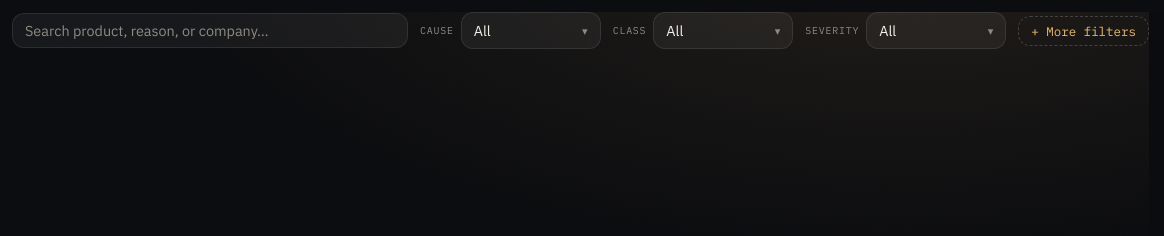
Test: RecallFilters › shows UK classifications and hides the source filter for the UK
Click the dropdown named "Class" at (723, 30), box [653,12,793,49]
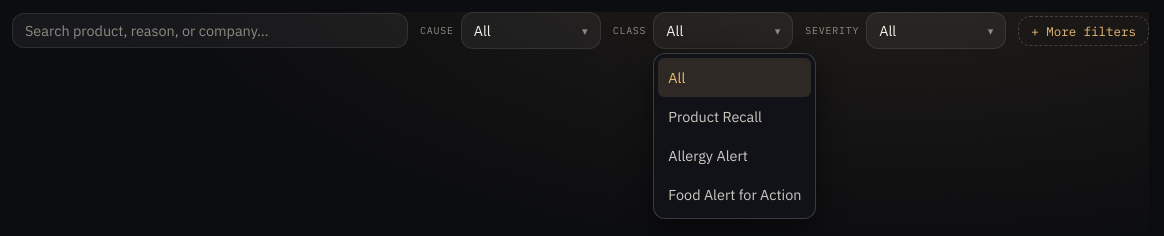
expect the text "Allergy Alert" is shown: met, box [668,144,748,167]
